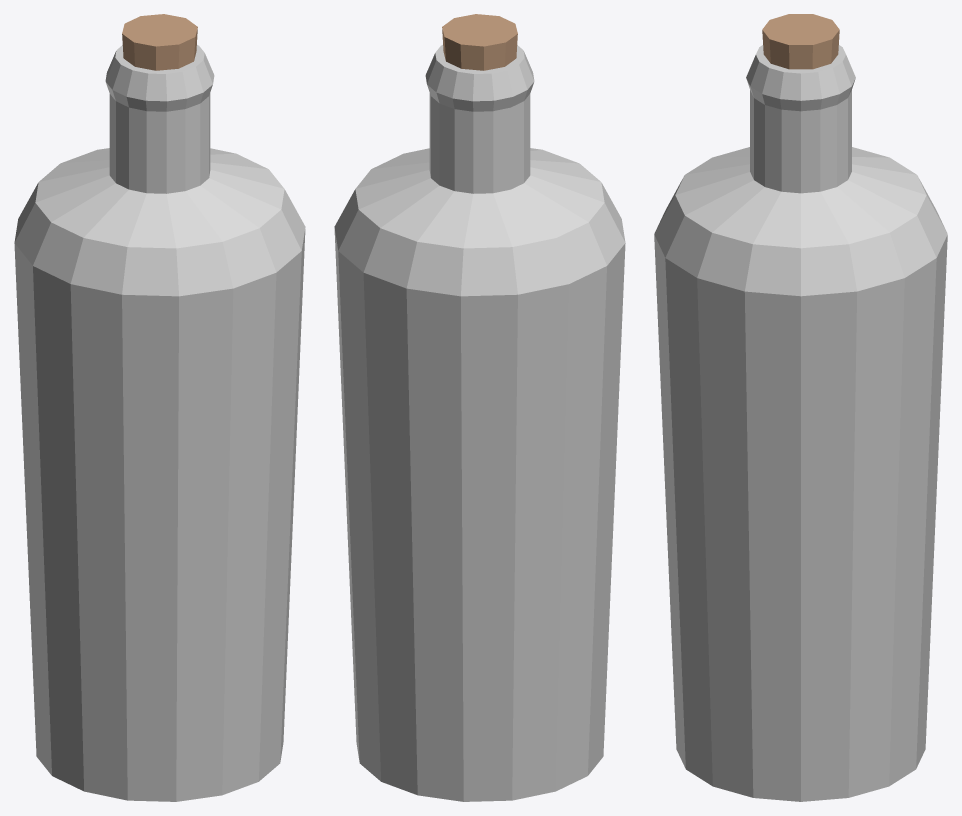
The model's file is bottle2.fbx.
3 renders of one model, left to right at view 1: azimuth 30°, elevation 25°; view 2: azimuth 150°, elevation 25°; view 3: azimuth 270°, elevation 25°, orthographic.
Visible parts, largest first — view 1: Cylinder, Cylinder.001; view 2: Cylinder, Cylinder.001; view 3: Cylinder, Cylinder.001.
Part boxes in pixels (box(x1,y1,x2,y2)): Cylinder: box(14, 45, 305, 801); Cylinder.001: box(122, 14, 197, 70); Cylinder: box(334, 45, 625, 801); Cylinder.001: box(442, 14, 517, 70); Cylinder: box(654, 45, 947, 801); Cylinder.001: box(762, 14, 839, 69).
Bounding box in the file's own units: 94.24 × 255 × 94.24.
